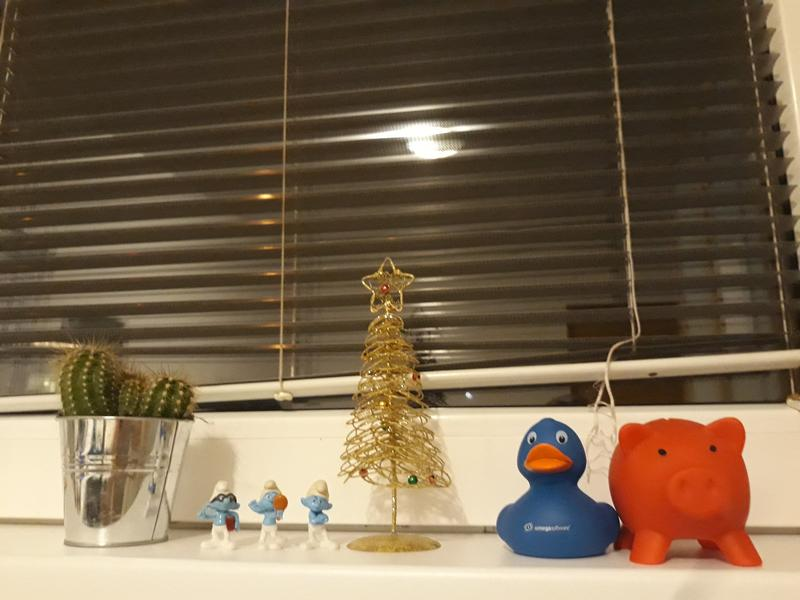plava_patkica: (619, 406, 765, 564), (481, 410, 617, 569)
strumf: (191, 472, 241, 561), (248, 475, 289, 556), (303, 481, 332, 559)
